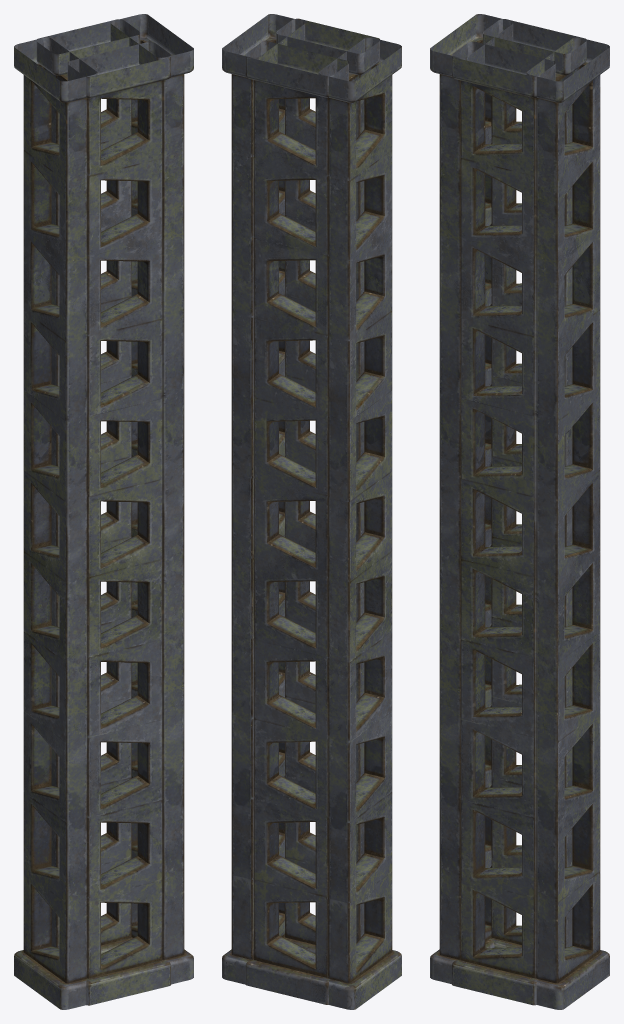
Rendered from SM_Scaffolding_pCube177.fbx.
The picture shows the model from 3 angles, left to right: view 1: azimuth 30°, elevation 25°; view 2: azimuth 150°, elevation 25°; view 3: azimuth 330°, elevation 25°; orthographic projection.
Visible parts, largest first — view 1: SM_Scaffolding_pCube177_LOD0; view 2: SM_Scaffolding_pCube177_LOD0; view 3: SM_Scaffolding_pCube177_LOD0.
Part boxes in pixels (bbox=[...]): SM_Scaffolding_pCube177_LOD0: bbox=[14, 14, 193, 1009]; SM_Scaffolding_pCube177_LOD0: bbox=[222, 14, 401, 1009]; SM_Scaffolding_pCube177_LOD0: bbox=[430, 14, 609, 1009].
Size of the model in its own units: 62.04 by 42.03 by 412.
Materials: 1 (1 with a texture image).
